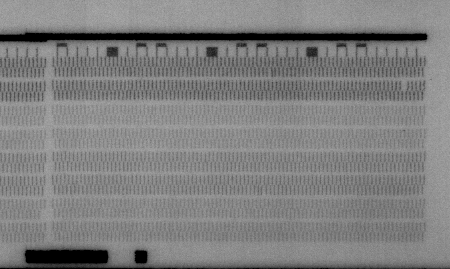Broken hole: (398, 79, 410, 92), (39, 210, 49, 221)
Oblique printing: (264, 68, 277, 78)
